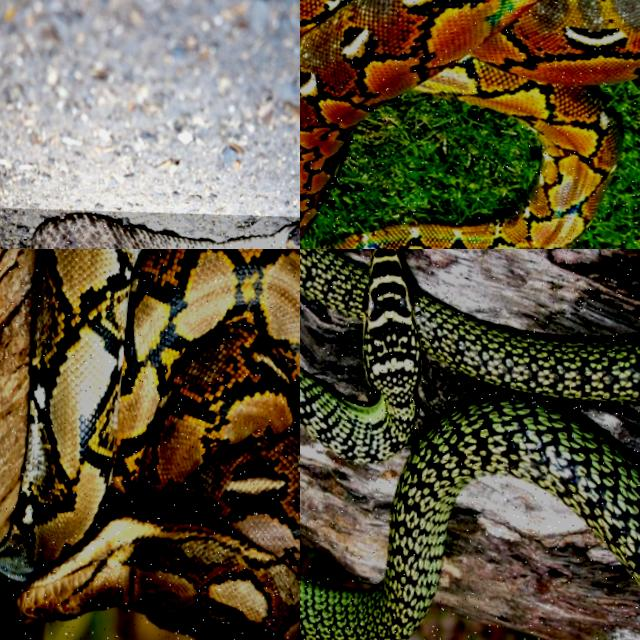Calloselasma rhodostoma: (29, 214, 299, 248)
Chrysopelea ornata: (300, 249, 639, 461)
Malayopython reticulatus: (0, 249, 299, 639), (300, 0, 639, 248)
snake: (0, 249, 299, 639), (300, 0, 639, 248), (300, 249, 639, 461), (29, 214, 299, 248)
